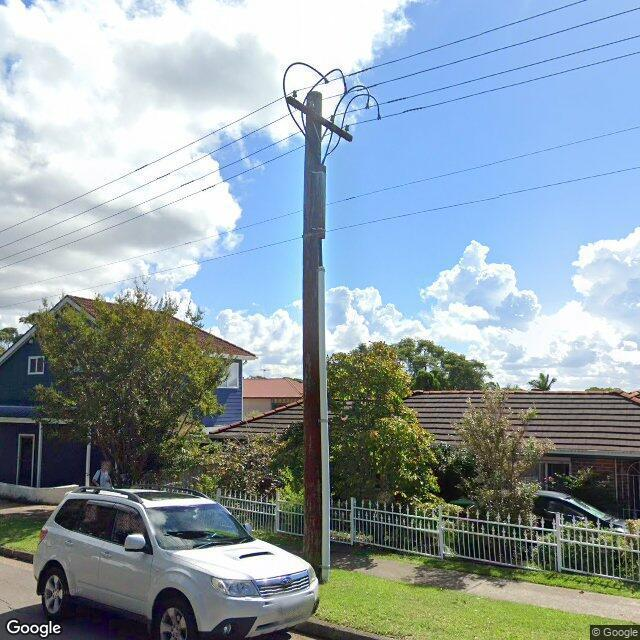crossarm: (286, 95, 354, 143)
timber-pole: (304, 90, 330, 582)
